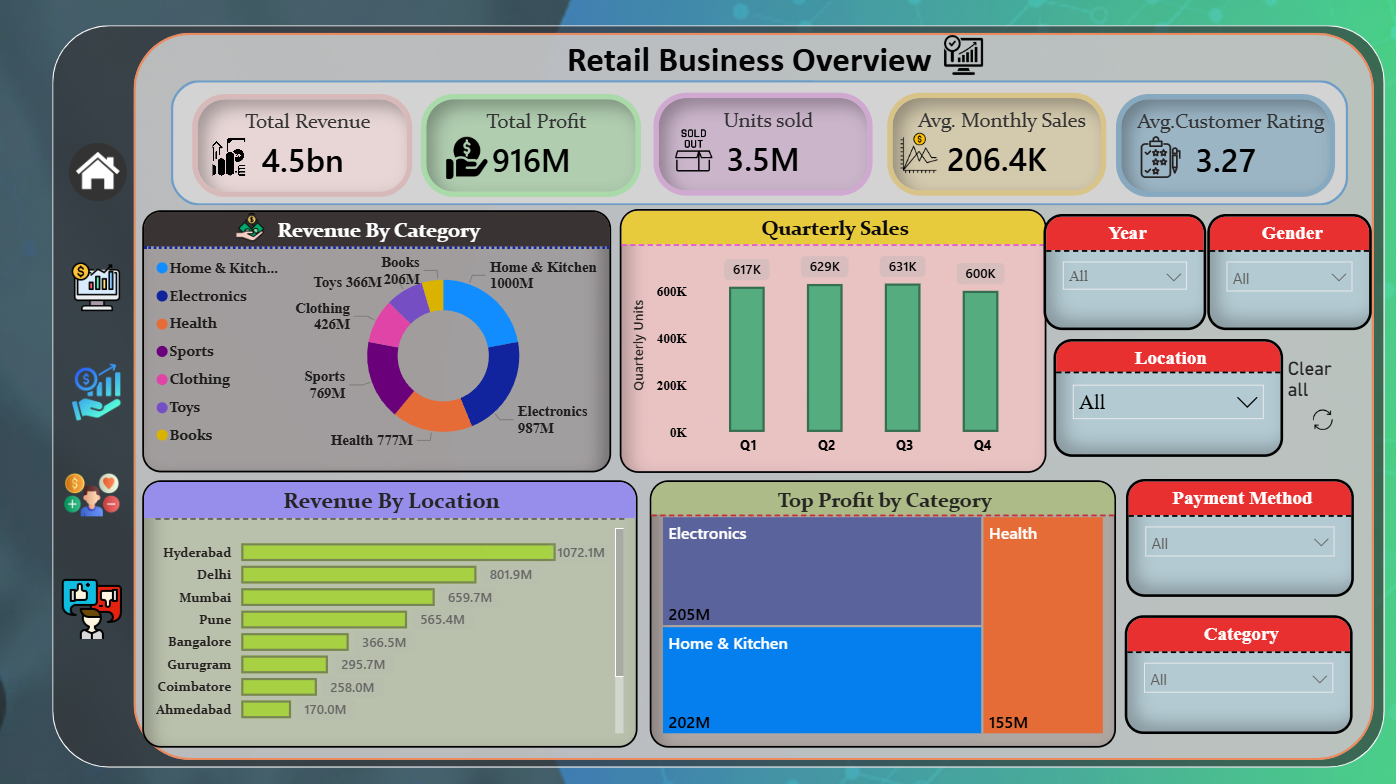

What the dashboard file says about the page in this screenshot:
{"tool":"powerbi","page":{"name":"Dashboard","canvas":[1280,722],"ordinal":1},"visuals":[{"type":"shape","box":[50.8,23.3,1211.7,675.1],"z":0},{"type":"shape","box":[124.9,30.2,1128,661.4],"z":1000},{"type":"textbox","box":[506.6,30.5,445.6,53.7],"z":2000},{"type":"shape","box":[159.2,74.1,1070.3,113.9],"z":3000},{"type":"card","title":"Total Revenue","fields":{"Values":["Ecommerce_Sales.Total Revenue"]},"box":[178.4,86.4,200.3,93.3],"z":4000},{"type":"image","box":[191.6,120.5,39.2,46.5],"z":5000},{"type":"card","title":"Total Profit ","fields":{"Values":["Ecommerce_Sales.Total Profit"]},"box":[387,86.4,200.3,93.3],"z":6000},{"type":"image","box":[399.2,120.5,58.1,47.9],"z":7000},{"type":"card","title":"Units sold","fields":{"Values":["Ecommerce_Sales.Total Units Sold"]},"box":[598.3,85.1,199,93.3],"z":8000},{"type":"image","box":[609.7,113.2,50.8,47.9],"z":9000},{"type":"card","title":"Avg. Monthly Sales","fields":{"Values":["Ecommerce_Sales.Avg MonthlySales"]},"box":[811,85.1,199,93.3],"z":10000},{"type":"image","box":[809.6,114.4,59.4,50.7],"z":11000},{"type":"card","title":"Avg.Customer Rating","fields":{"Values":["Ecommerce_Sales.Average Rating"]},"box":[1018.2,86.4,199,93.3],"z":12000},{"type":"image","box":[1029.6,119.4,58.2,49.2],"z":13000},{"type":"donutChart","title":"Revenue By Category ","fields":{"Category":["Ecommerce_Sales.category"],"Y":["Ecommerce_Sales.Total Revenue"]},"box":[133.1,192.1,426.8,238.8],"z":14000},{"type":"image","box":[200.3,189.4,63.1,35.7],"z":15000},{"type":"clusteredBarChart","title":"Revenue By Location","fields":{"Category":["Ecommerce_Sales.location"],"Y":["Ecommerce_Sales.Total Revenue"]},"box":[133.1,437.7,450.1,242.9],"z":16000},{"type":"lineClusteredColumnComboChart","title":"Quarterly Sales","fields":{"Category":["QuarterTable.Quarter"],"Y":["QuarterTable.Units_For_Quarter"]},"box":[566.7,190.7,388.3,240.1],"z":17000},{"type":"treemap","title":"Top Profit by Category","fields":{"Group":["Ecommerce_Sales.category"],"Values":["Ecommerce_Sales.Total Profit"]},"box":[594.2,437.7,424,242.9],"z":18000},{"type":"slicer","title":"Location","fields":{"Values":["Ecommerce_Sales.location"]},"box":[961.9,308.7,208.6,107],"z":19000},{"type":"slicer","title":"Payment Method","fields":{"Values":["Ecommerce_Sales.payment_method"]},"box":[1027.8,436.4,207.2,107],"z":20000},{"type":"slicer","title":"Category","fields":{"Values":["Ecommerce_Sales.category"]},"box":[1026.4,559.9,207,108],"z":21000},{"type":"slicer","title":"Gender","fields":{"Values":["Ecommerce_Sales.gender"]},"box":[1101.8,196,149.5,106],"z":22000},{"type":"image","box":[61,126.3,62.4,62.4],"z":23000},{"type":"image","box":[49.4,233.7,84.2,55.2],"z":24000},{"type":"image","box":[52.3,521.1,69.7,68.2],"z":25000},{"type":"image","box":[52.3,421,69.7,61],"z":26000},{"type":"slicer","title":"Year","fields":{"Values":["Ecommerce_Sales.year"]},"box":[952.2,196,148.1,106],"z":27000},{"type":"image","box":[58.1,326.6,66.8,62.4],"z":28000},{"type":"image","box":[856.4,27.6,48,47],"z":29000},{"type":"image","title":"Clear all","box":[1170,326.6,74,71.1],"z":30000}]}

Visuals, with their boxes in screenshot pixels (x1, y1, x2, y2), scaled from the page's 1280x722 canvas onto the 1396x784 screenshot:
shape: x1=55 y1=25 x2=1377 y2=758
shape: x1=136 y1=33 x2=1366 y2=751
textbox: x1=553 y1=33 x2=1038 y2=91
shape: x1=174 y1=80 x2=1341 y2=204
"Total Revenue" card: x1=195 y1=94 x2=413 y2=195
image: x1=209 y1=131 x2=252 y2=181
"Total Profit " card: x1=422 y1=94 x2=641 y2=195
image: x1=435 y1=131 x2=499 y2=183
"Units sold" card: x1=653 y1=92 x2=870 y2=194
image: x1=665 y1=123 x2=720 y2=175
"Avg. Monthly Sales" card: x1=884 y1=92 x2=1102 y2=194
image: x1=883 y1=124 x2=948 y2=179
"Avg.Customer Rating" card: x1=1110 y1=94 x2=1328 y2=195
image: x1=1123 y1=130 x2=1186 y2=183
"Revenue By Category " donutChart: x1=145 y1=209 x2=611 y2=468
image: x1=218 y1=206 x2=287 y2=244
"Revenue By Location" clusteredBarChart: x1=145 y1=475 x2=636 y2=739
"Quarterly Sales" lineClusteredColumnComboChart: x1=618 y1=207 x2=1042 y2=468
"Top Profit by Category" treemap: x1=648 y1=475 x2=1110 y2=739
"Location" slicer: x1=1049 y1=335 x2=1277 y2=451
"Payment Method" slicer: x1=1121 y1=474 x2=1347 y2=590
"Category" slicer: x1=1119 y1=608 x2=1345 y2=725
"Gender" slicer: x1=1202 y1=213 x2=1365 y2=328
image: x1=67 y1=137 x2=135 y2=205
image: x1=54 y1=254 x2=146 y2=314
image: x1=57 y1=566 x2=133 y2=640
image: x1=57 y1=457 x2=133 y2=523
"Year" slicer: x1=1038 y1=213 x2=1200 y2=328
image: x1=63 y1=355 x2=136 y2=422
image: x1=934 y1=30 x2=986 y2=81
"Clear all" image: x1=1276 y1=355 x2=1357 y2=432
